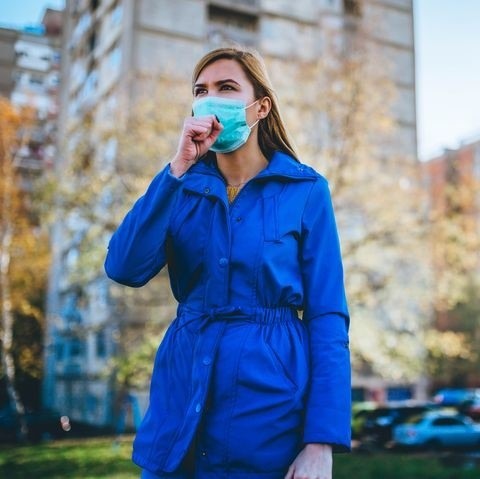face_with_mask: (188, 50, 273, 154)
